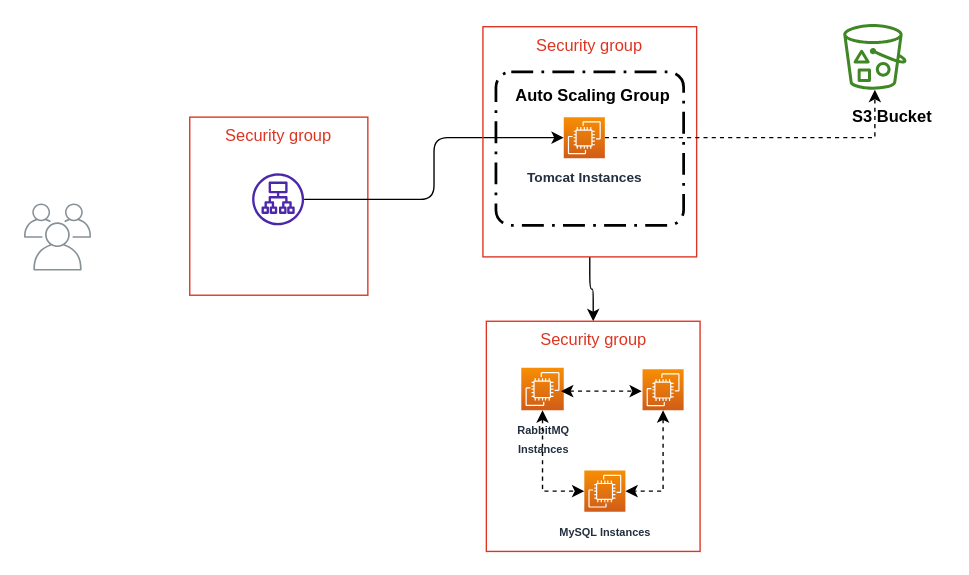
The diagram is 969 pixels wide and 575 high, and some of its shapes have lost their labels. The shapes that lost their labels are listed below. From the top down, each one's box as (x1, y1, x2, y2) in pixels, then its label:
(251, 173, 303, 225): Applicaion Load Balancer
(23, 203, 90, 270): users
(641, 368, 684, 410): Memcached Instances
